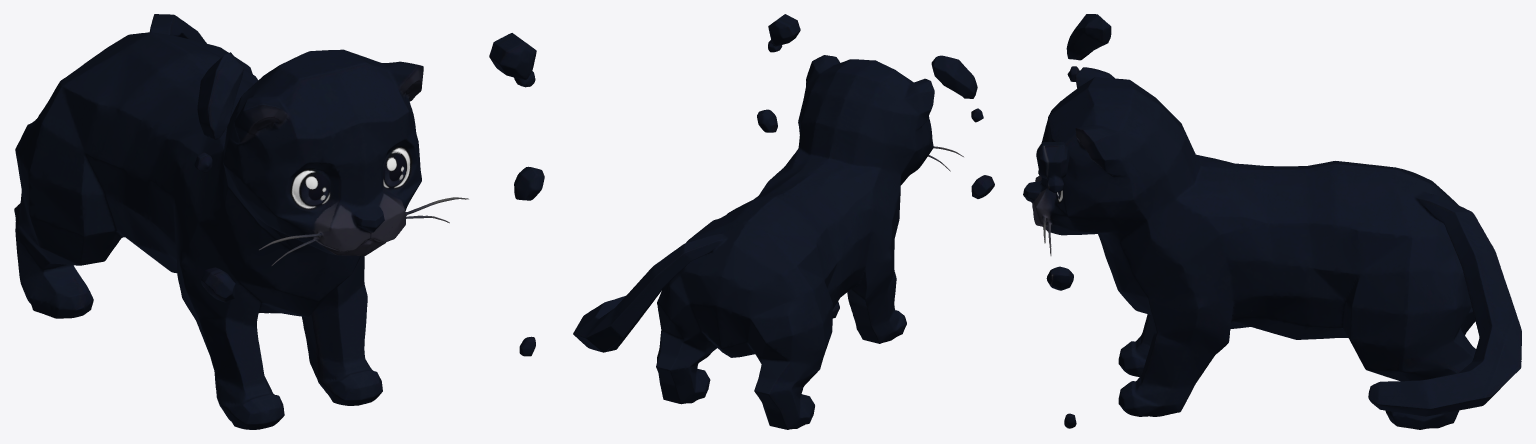
The model's file is Otty.glb.
3 views of the same model, side by side, from view 1: azimuth 30°, elevation 25°; view 2: azimuth 150°, elevation 25°; view 3: azimuth 270°, elevation 25° (orthographic). The views are drawn at different scales.
Bounding box in the file's own units: 1.32 × 1.36 × 1.84.
1 material, 1 textured.
